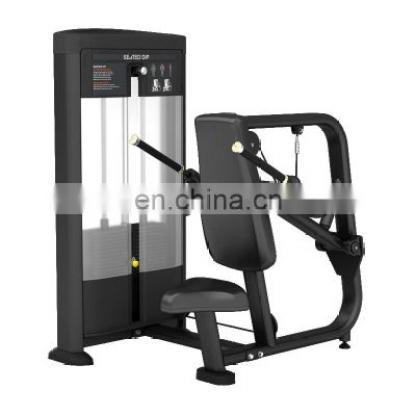seated dip machine: (46, 27, 367, 385)
